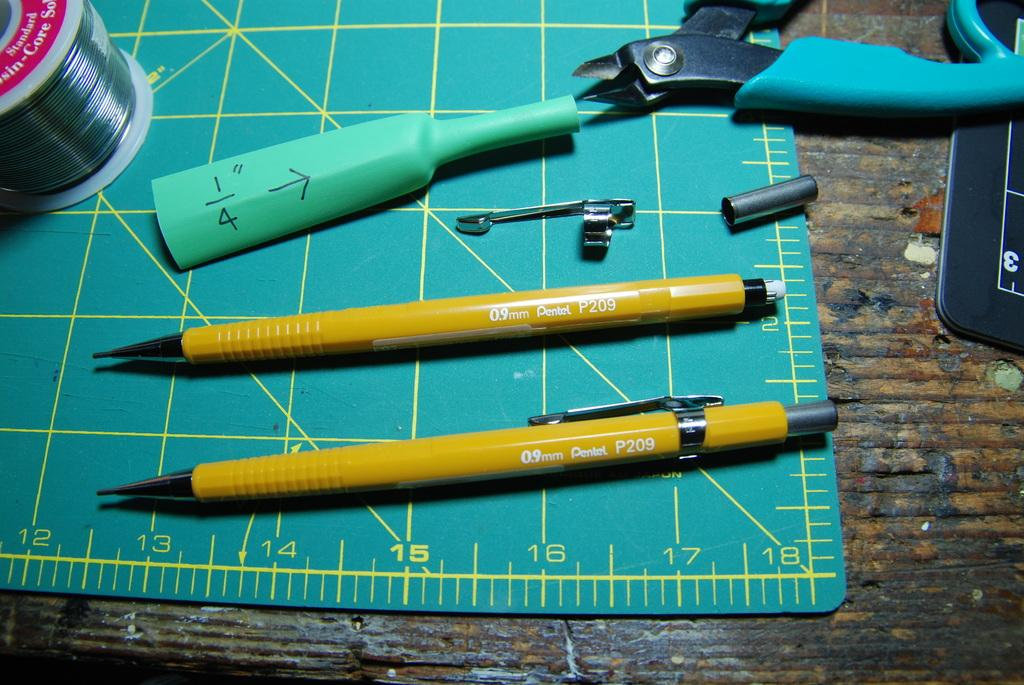pen: (86, 393, 842, 511), (88, 271, 788, 368)
